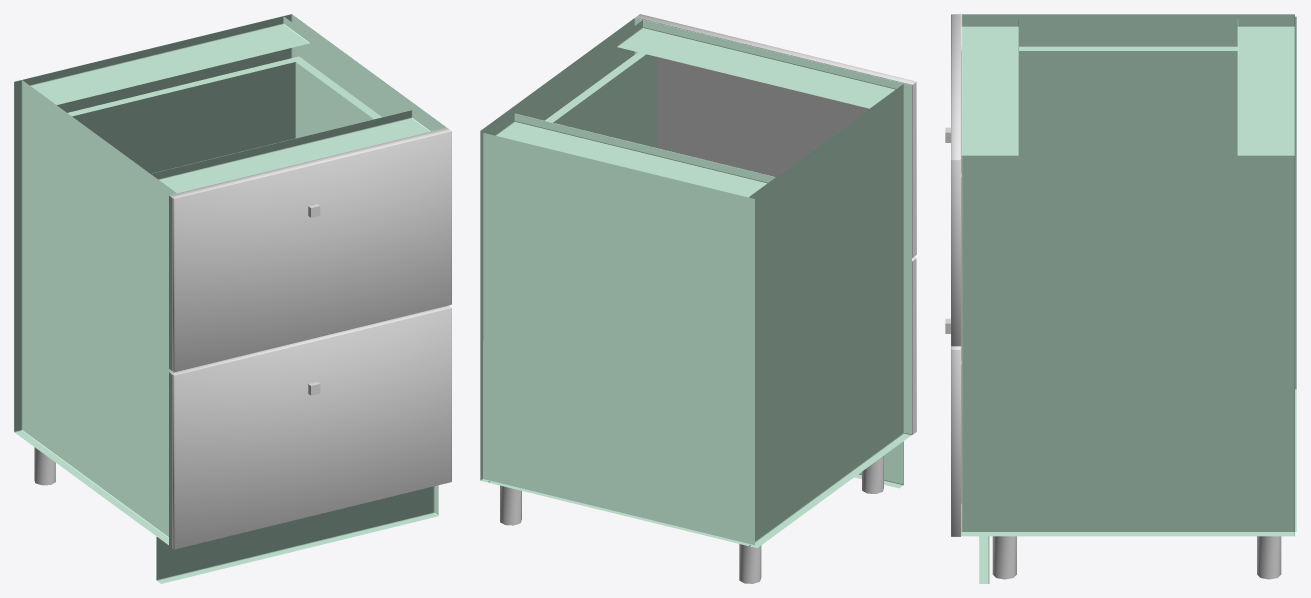
File: M_2YNSD_7.glb
The picture shows the model from 3 angles, left to right: view 1: azimuth 30°, elevation 25°; view 2: azimuth 150°, elevation 25°; view 3: azimuth 270°, elevation 25°; orthographic projection. The views are drawn at different scales.
Parts seen in each view (by area): view 1: M_2YNSD_7, M_2YNSD_1_F.010, M_2YNSD_1_F.011, M_2YNSD_7_F_7, M_2YNSD_1_F_C.011, M_2YNSD_1_F_C.010, Legs.004; view 2: M_2YNSD_7, M_2YNSD_1_F_A.010, M_2YNSD_7_F_7, M_2YNSD_1_F_B.010, Legs.004, M_2YNSD_1_F.010, M_2YNSD_1_F_C.011, M_2YNSD_1_F_C.010; view 3: M_2YNSD_7, M_2YNSD_7_F_7, M_2YNSD_1_F.010, Legs.004, M_2YNSD_1_F.011.
Part boxes in pixels (x1=…): M_2YNSD_7: x1=14, y1=14, x2=446, y2=583; M_2YNSD_1_F.010: x1=170, y1=128, x2=451, y2=372; M_2YNSD_1_F.011: x1=170, y1=305, x2=451, y2=549; M_2YNSD_7_F_7: x1=68, y1=56, x2=381, y2=173; M_2YNSD_1_F_C.011: x1=169, y1=372, x2=172, y2=548; M_2YNSD_1_F_C.010: x1=169, y1=196, x2=172, y2=370; Legs.004: x1=34, y1=447, x2=55, y2=485; M_2YNSD_7: x1=480, y1=17, x2=911, y2=547; M_2YNSD_1_F_A.010: x1=635, y1=17, x2=914, y2=176; M_2YNSD_7_F_7: x1=545, y1=52, x2=657, y2=148; M_2YNSD_1_F_B.010: x1=774, y1=51, x2=915, y2=257; Legs.004: x1=500, y1=456, x2=883, y2=583; M_2YNSD_1_F.010: x1=635, y1=14, x2=916, y2=254; M_2YNSD_1_F_C.011: x1=912, y1=259, x2=916, y2=434; M_2YNSD_1_F_C.010: x1=659, y1=83, x2=916, y2=257; M_2YNSD_7: x1=961, y1=14, x2=1296, y2=583; M_2YNSD_7_F_7: x1=961, y1=46, x2=1237, y2=503; M_2YNSD_1_F.010: x1=951, y1=14, x2=961, y2=346; Legs.004: x1=992, y1=536, x2=1281, y2=579; M_2YNSD_1_F.011: x1=951, y1=346, x2=961, y2=536.
Bounding box in the file's own units: 6.34 × 8.6 × 6.46.
